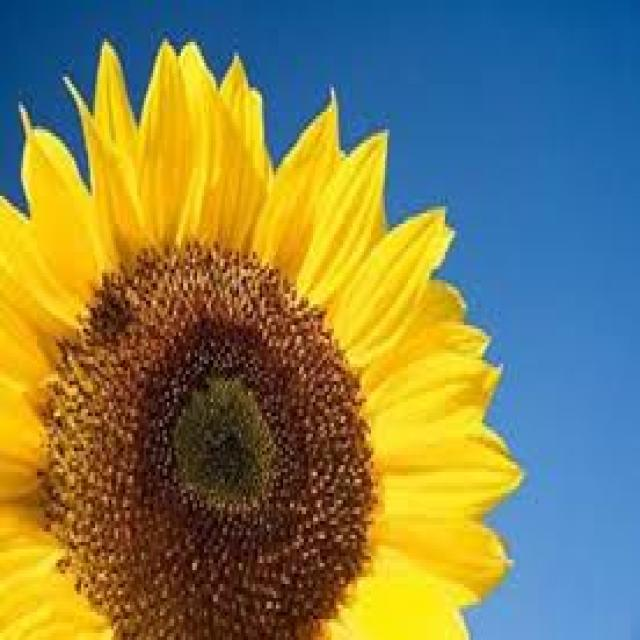sunflower: (0, 20, 535, 640)
